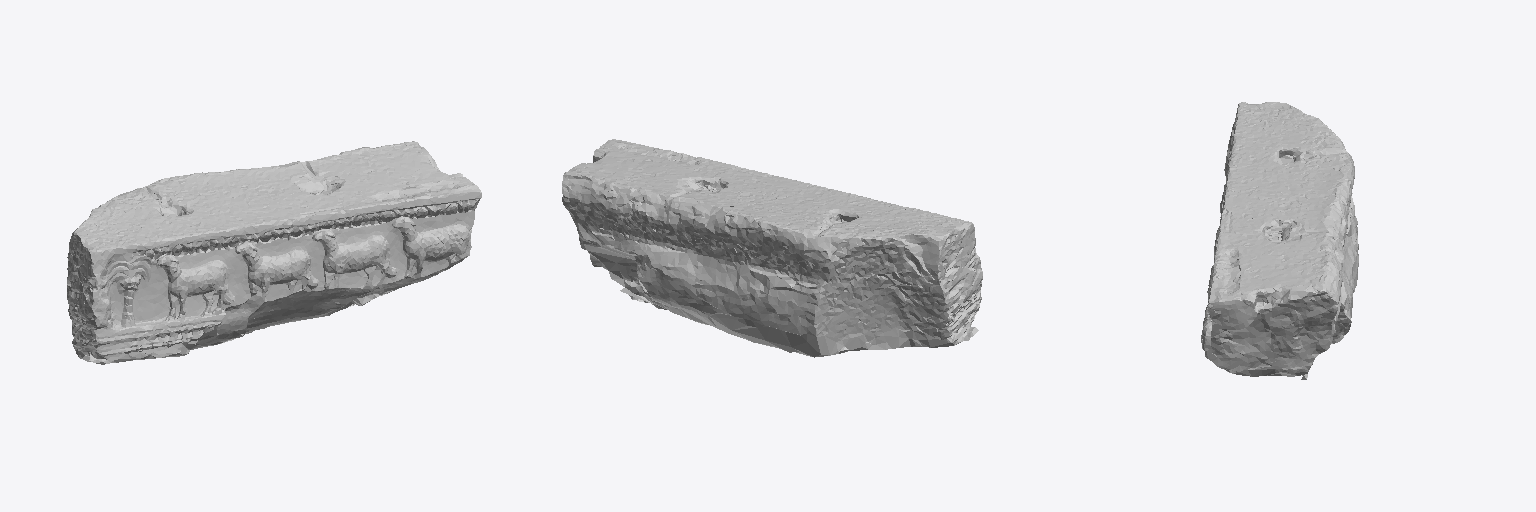
File: laemmerfries_final.obj
The picture shows the model from 3 angles: view 1: azimuth 30°, elevation 25°; view 2: azimuth 150°, elevation 25°; view 3: azimuth 270°, elevation 25°; orthographic projection.
Parts seen in each view (by area): view 1: lowpoly_textured; view 2: lowpoly_textured; view 3: lowpoly_textured.
Boxes of the visible parts, <box> form: lowpoly_textured: <box>67,141,481,364</box>; lowpoly_textured: <box>562,139,982,357</box>; lowpoly_textured: <box>1201,102,1358,379</box>.
Size of the model in its own units: 3.13 by 1.07 by 1.12.